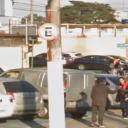NoEstacionar: (35, 22, 62, 44)
